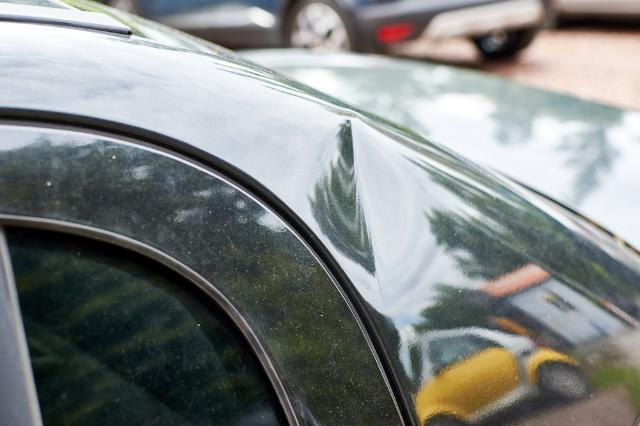dent: (309, 117, 440, 310)
